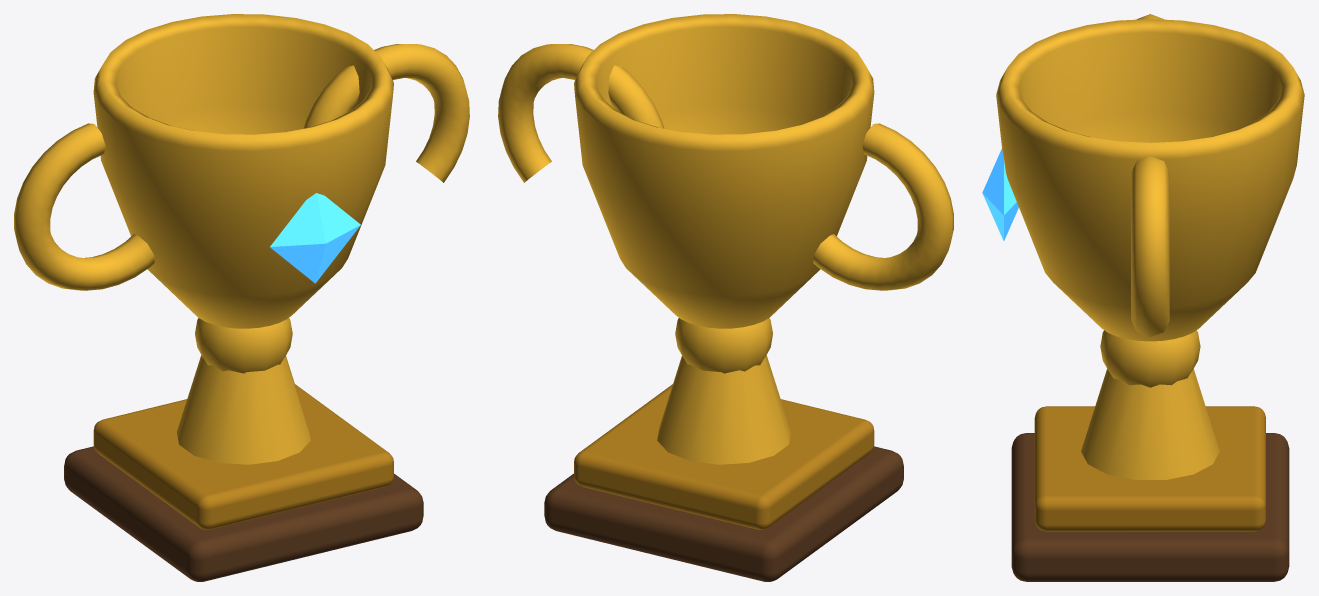
The model's file is prop_trophy.glb.
3 views of the same model, side by side, from view 1: azimuth 30°, elevation 25°; view 2: azimuth 150°, elevation 25°; view 3: azimuth 270°, elevation 25° (orthographic). The views are drawn at different scales.
Parts seen in each view (by area): view 1: Bowl, BaseGold, Plinth, Stem, Handle-1, Handle1, Star, Knob; view 2: Bowl, BaseGold, Plinth, Stem, Handle-1, Handle1, Knob; view 3: Bowl, BaseGold, Plinth, Stem, Handle1, Knob, Star.
Boxes of the visible parts, box(x1,y1,x2,y2) form: Bowl: box(93, 14, 393, 328); BaseGold: box(93, 384, 393, 529); Plinth: box(64, 446, 423, 581); Stem: box(177, 355, 310, 464); Handle-1: box(14, 123, 154, 290); Handle1: box(303, 44, 469, 182); Star: box(270, 193, 360, 283); Knob: box(195, 318, 292, 373); Bowl: box(574, 14, 874, 328); BaseGold: box(574, 384, 874, 529); Plinth: box(544, 446, 903, 581); Stem: box(657, 355, 790, 464); Handle-1: box(813, 123, 953, 290); Handle1: box(498, 44, 664, 182); Knob: box(675, 318, 772, 373); Bowl: box(996, 19, 1304, 341); BaseGold: box(1034, 406, 1265, 531); Plinth: box(1011, 433, 1289, 581); Stem: box(1081, 369, 1219, 479); Handle1: box(1131, 156, 1169, 336); Knob: box(1100, 330, 1200, 387); Star: box(982, 149, 1018, 241).
Size of the model in its own units: 0.6925 by 0.64 by 0.418.
